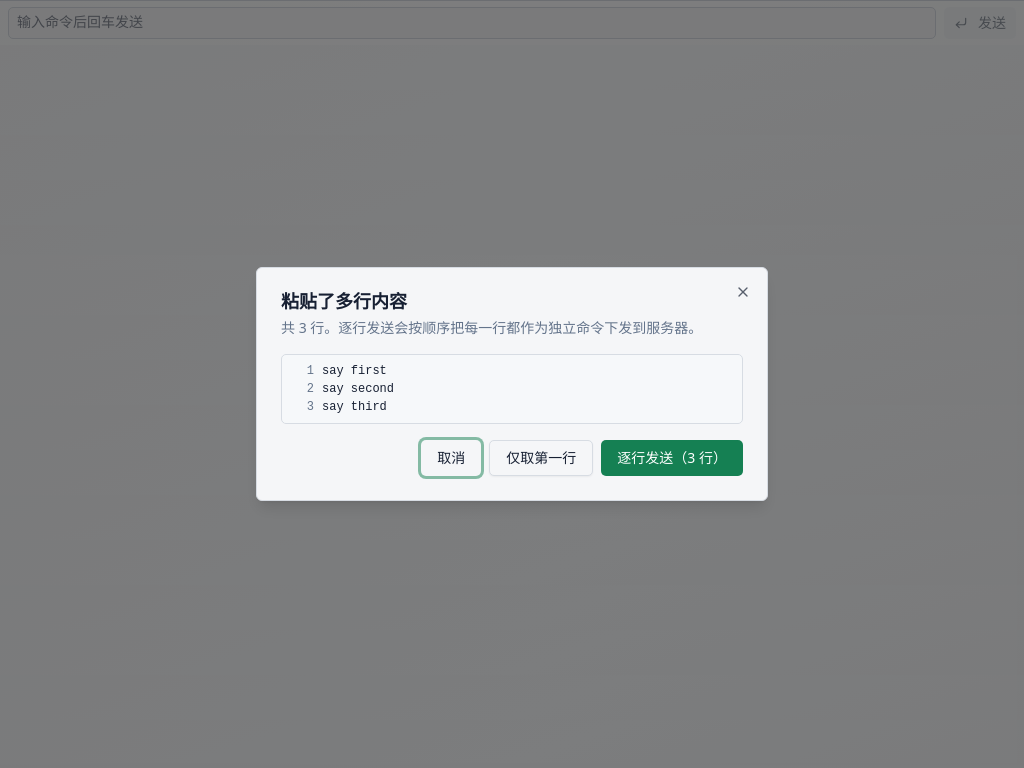
Test case: FR-416 多行粘贴保护 › 分支①逐行发送：按顺序逐行提交
The width and height of the screenshot is (1024, 768).
Click the button "逐行发送（3 行）" at (672, 458), box x1=601 y1=440 x2=743 y2=476
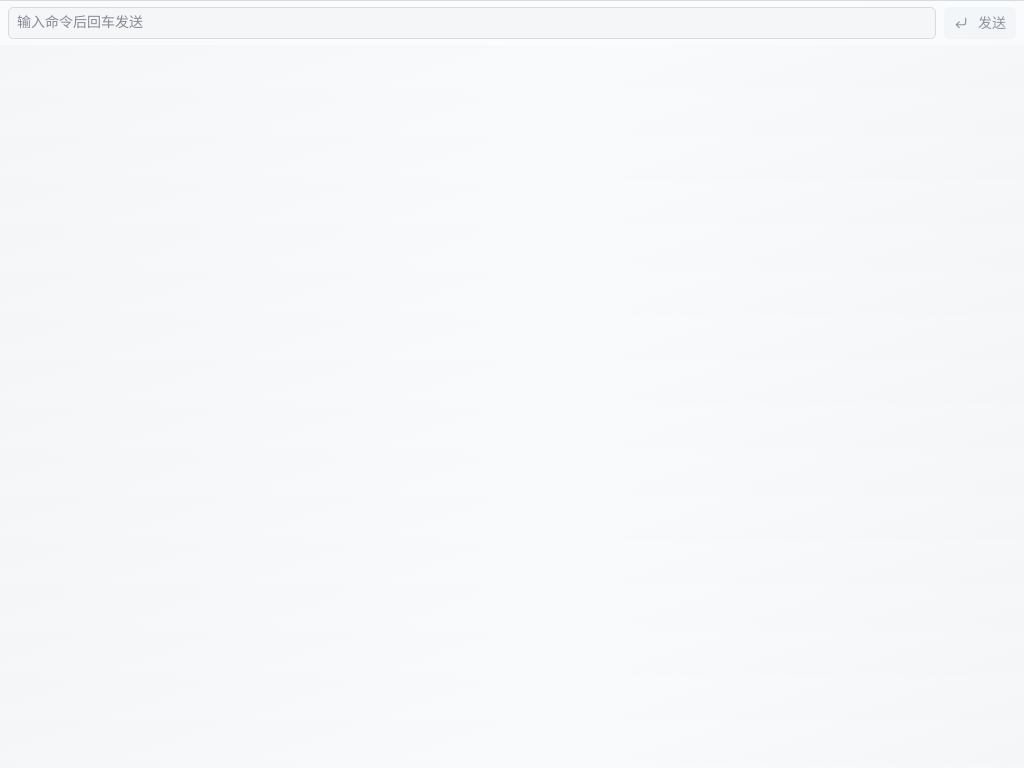
Check: the field named "控制台命令输入" is empty, box x1=8 y1=7 x2=936 y2=39
Check: the dialog is gone
